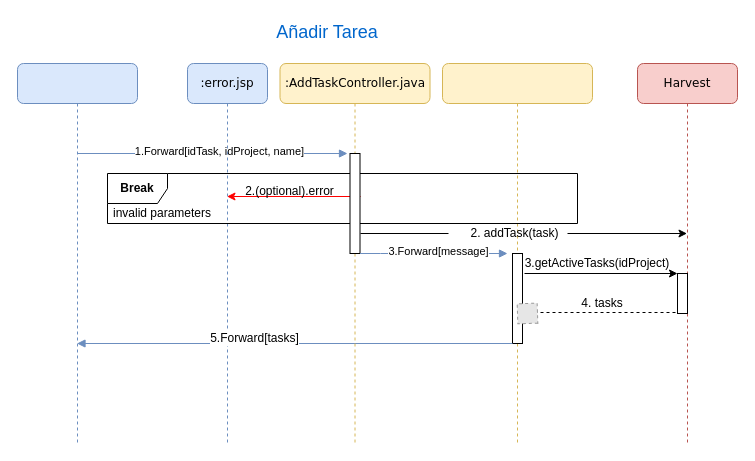
The diagram is 755 pixels wide and 461 high, and some of its shapes have lost their labels. Grey dashed boxes stand in for pictures. The box of each missing label's shape, as (x1, y1, x2, y2) in pixels:
:GetTasksController.java: (442, 62, 592, 444)
:project.jsp: (16, 62, 138, 444)
